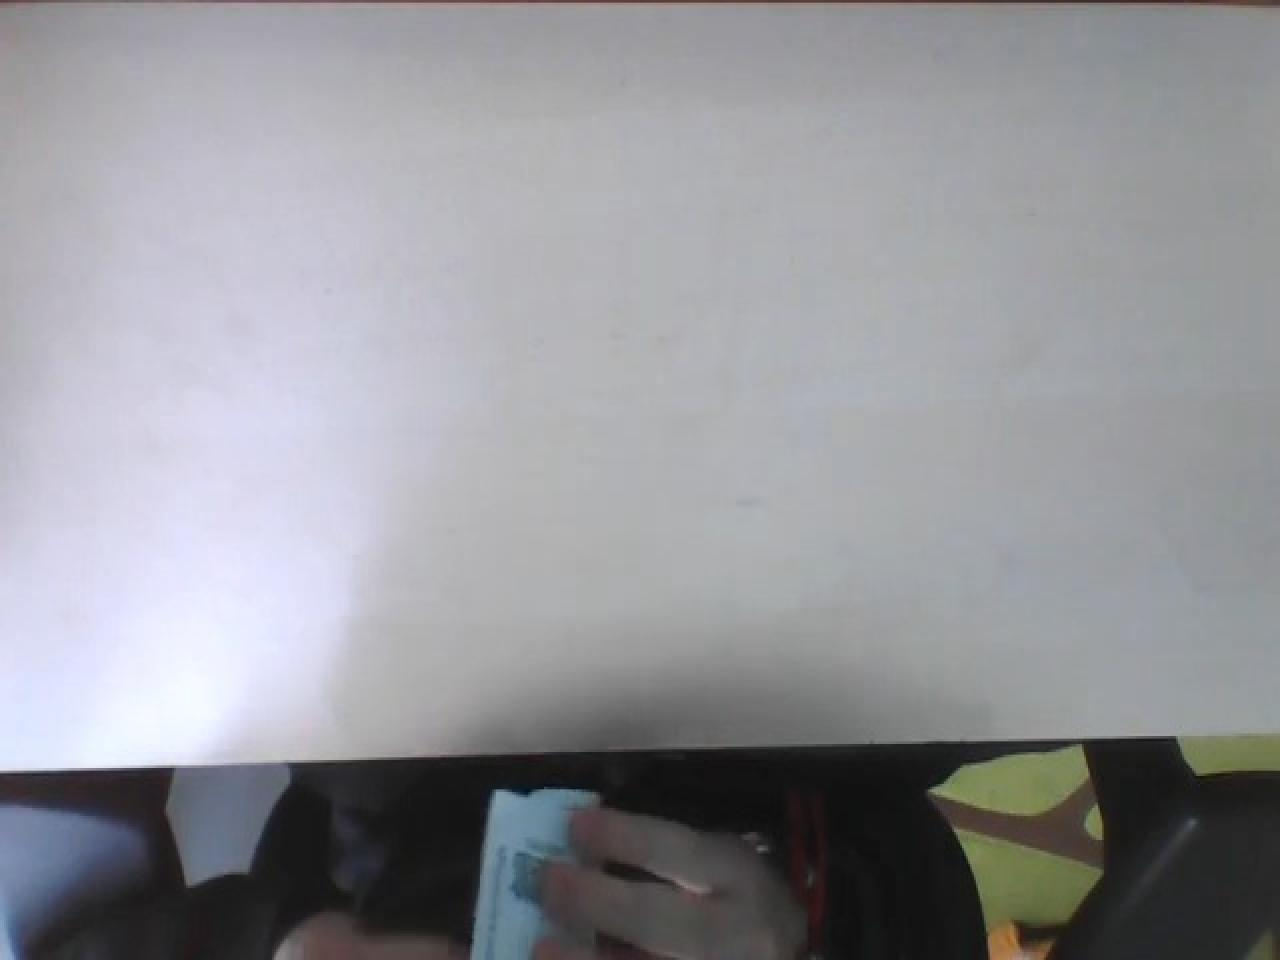100leva: (466, 773, 990, 960), (466, 784, 606, 960)
